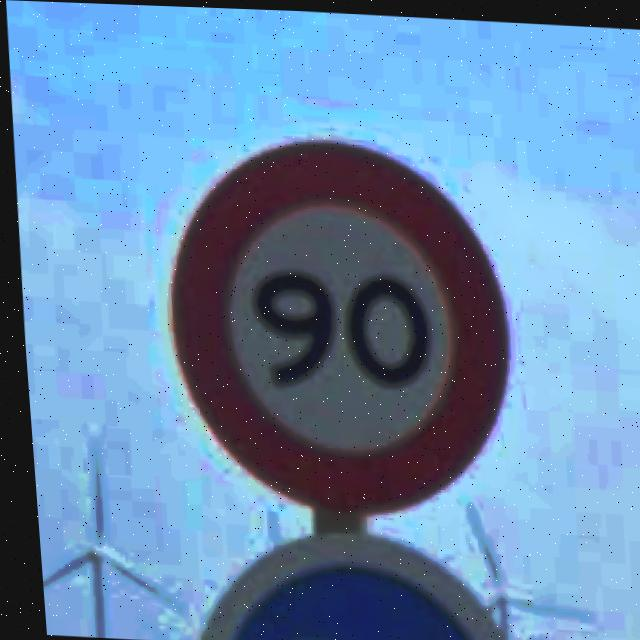max90: (148, 125, 519, 521)
